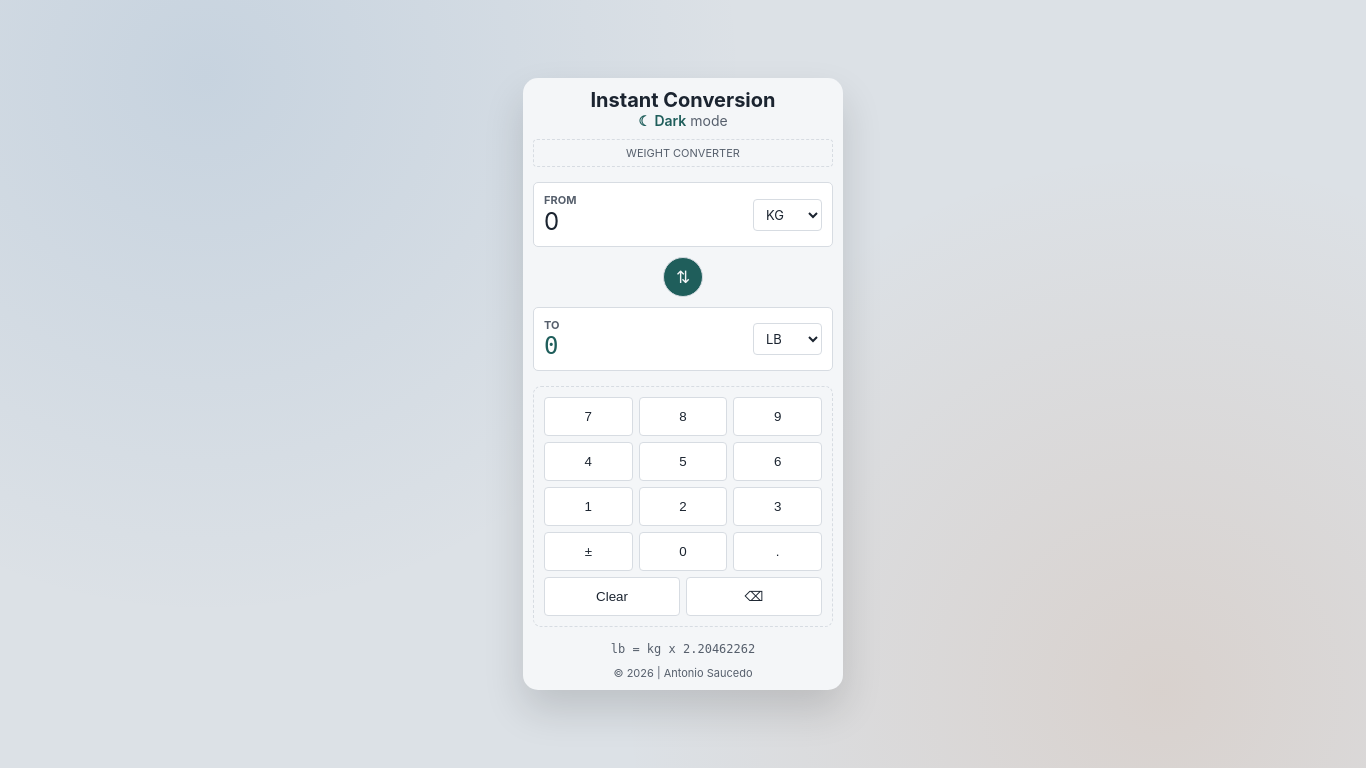
App › swaps the from/to units
The image size is (1366, 768).
Check: the dropdown named "Convert from unit" shows "KG", box [753,198,822,230]
Check: the dropdown named "Convert to unit" shows "LB", box [753,323,822,355]
Step 1. Click the button with class "swap-button" → click(683, 277), box [663,257,703,297]
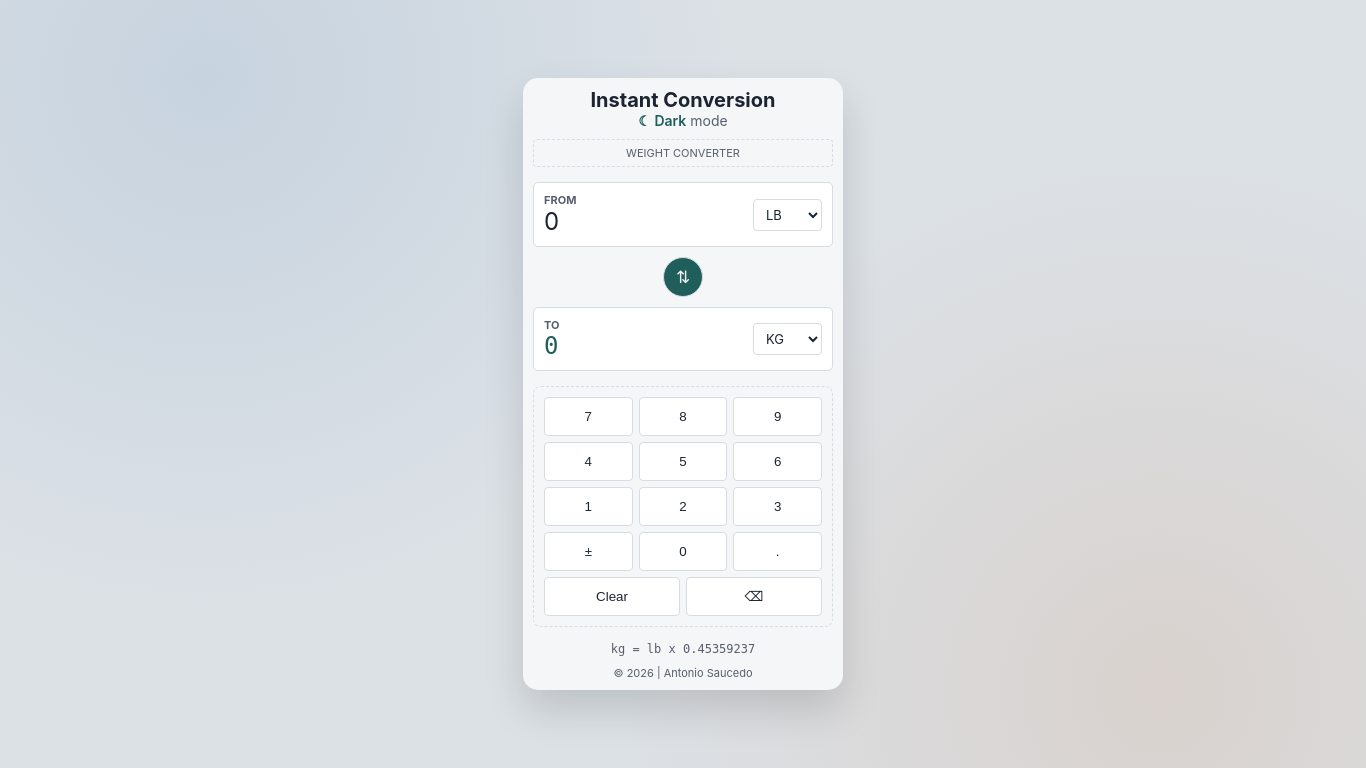
Check: the dropdown named "Convert from unit" shows "LB", box [753,198,822,230]
Check: the dropdown named "Convert to unit" shows "KG", box [753,323,822,355]
